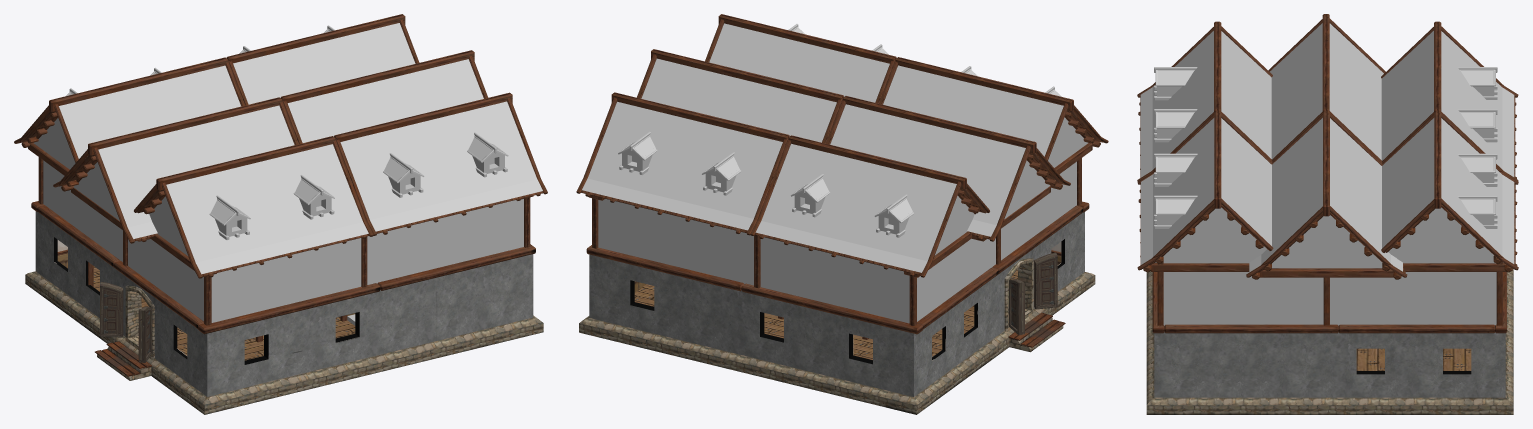
The model's file is tavern.fbx.
3 views of the same model, side by side, from view 1: azimuth 30°, elevation 25°; view 2: azimuth 150°, elevation 25°; view 3: azimuth 270°, elevation 25° (orthographic). The views are drawn at different scales.
Visible parts, largest first — view 1: TavernRoof2, TavernBody; view 2: TavernRoof2, TavernBody; view 3: TavernRoof2, TavernBody.
Boxes of the visible parts, x1,y1,x2,y2 form: TavernRoof2: (14, 14, 547, 325); TavernBody: (25, 201, 543, 414); TavernRoof2: (576, 14, 1108, 325); TavernBody: (579, 201, 1095, 414); TavernRoof2: (1137, 14, 1518, 325); TavernBody: (1146, 269, 1513, 414).
Bounding box in the file's own units: 3560 × 1892 × 2980.
